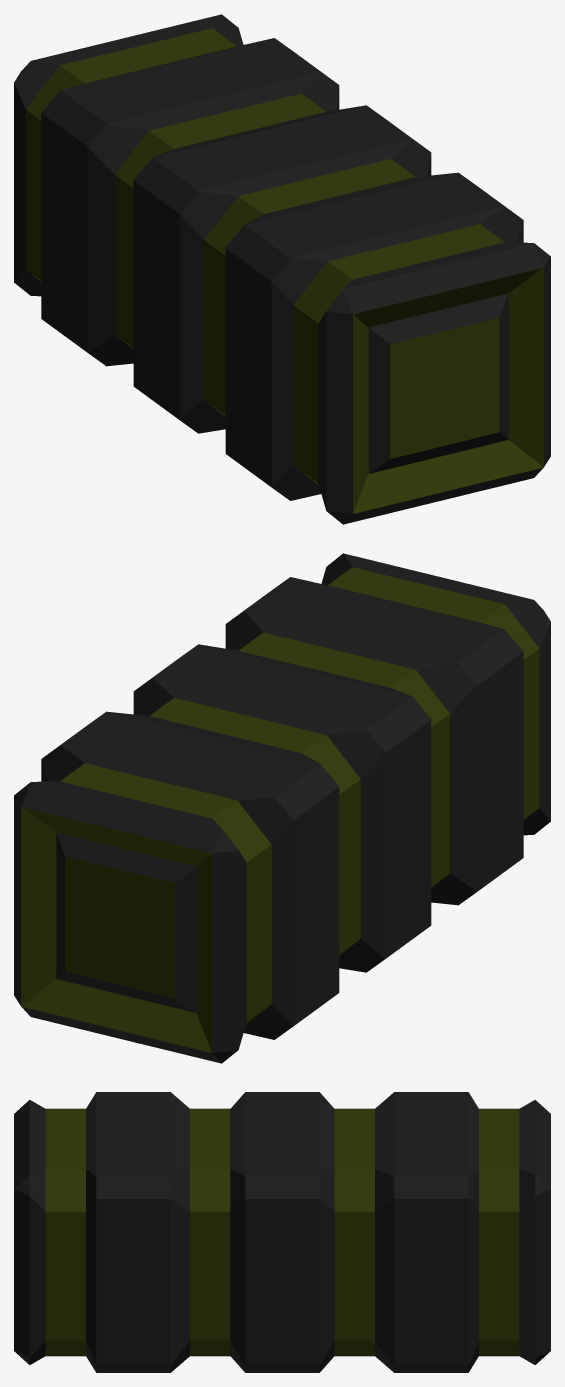
The model's file is AmmoCrate.fbx.
3 renders of one model, top to bottom at view 1: azimuth 30°, elevation 25°; view 2: azimuth 150°, elevation 25°; view 3: azimuth 270°, elevation 25°, orthographic. The views are drawn at different scales.
Visible parts, largest first — view 1: AmmoCrate; view 2: AmmoCrate; view 3: AmmoCrate.
Boxes of the visible parts, x1=… form: AmmoCrate: x1=14, y1=14, x2=550, y2=524; AmmoCrate: x1=14, y1=553, x2=550, y2=1063; AmmoCrate: x1=14, y1=1092, x2=550, y2=1372.
Bounding box in the file's own units: 112 × 103 × 256.
